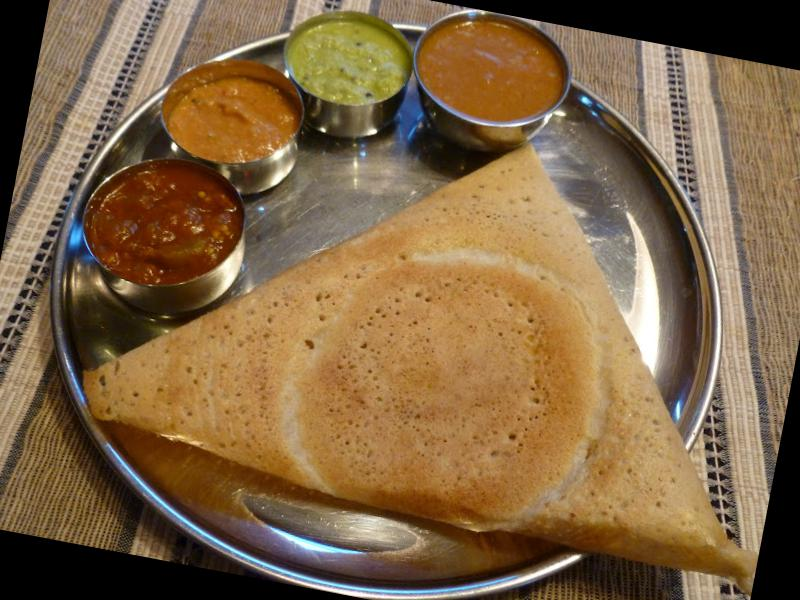dosa: (79, 147, 755, 591)
